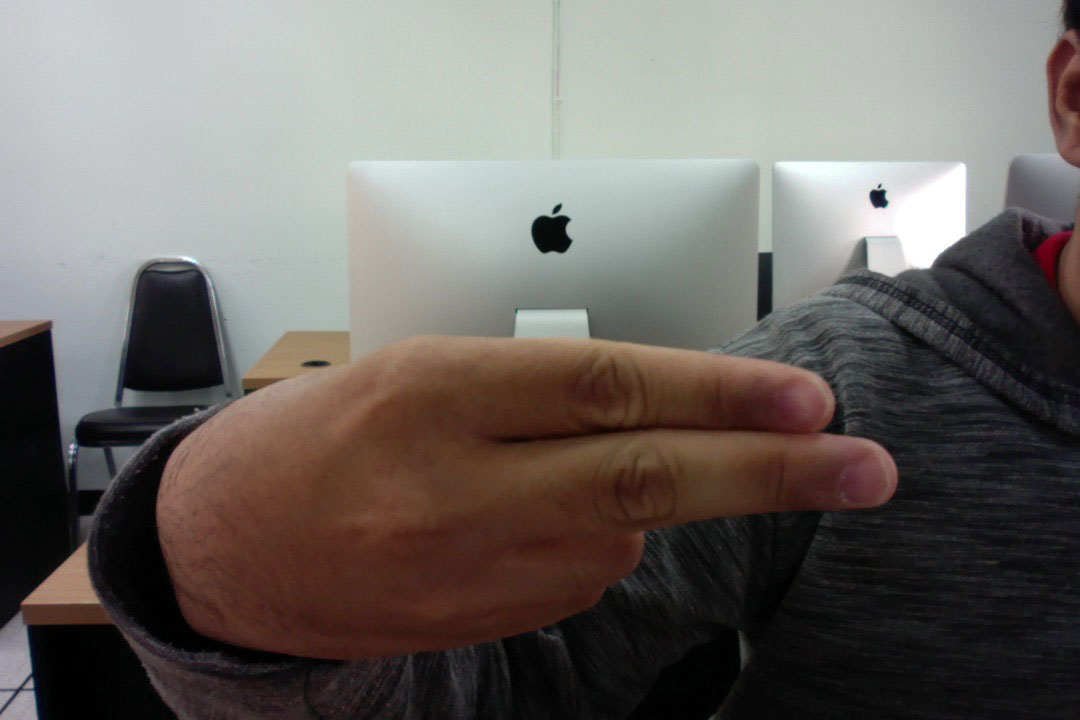hor: (129, 323, 911, 669)
